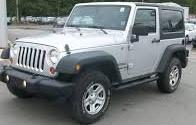SUV: (1, 4, 189, 124)
